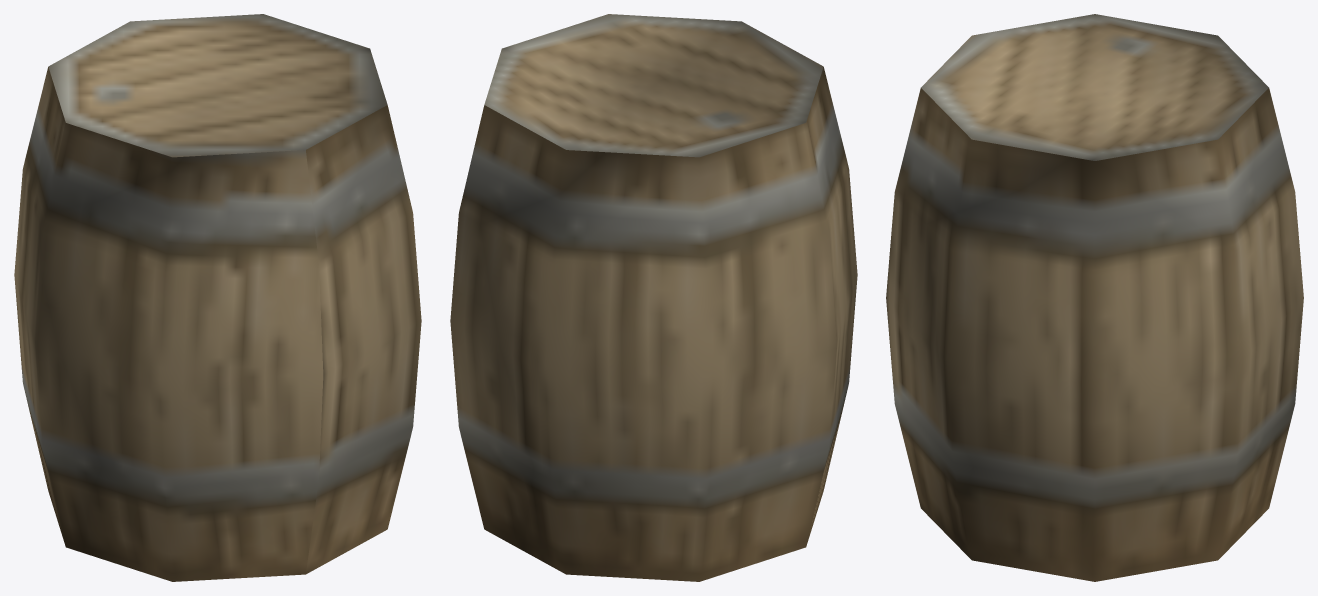
Rendered from Momo_Prop_Barrel1.fbx.
3 views of the same model, side by side, from view 1: azimuth 30°, elevation 25°; view 2: azimuth 150°, elevation 25°; view 3: azimuth 270°, elevation 25° (orthographic).
Visible parts, largest first — view 1: Momo_Barrel1; view 2: Momo_Barrel1; view 3: Momo_Barrel1.
Part boxes in pixels (box(x1,y1,x2,y2)): Momo_Barrel1: box(14, 14, 421, 581); Momo_Barrel1: box(450, 14, 857, 581); Momo_Barrel1: box(886, 14, 1303, 581).
Bounding box in the file's own units: 140 × 156 × 140.
